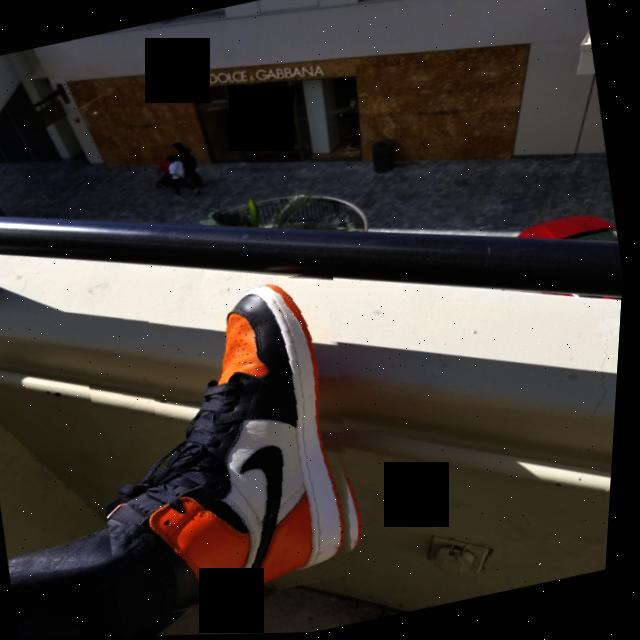shoe: (70, 266, 395, 626)
